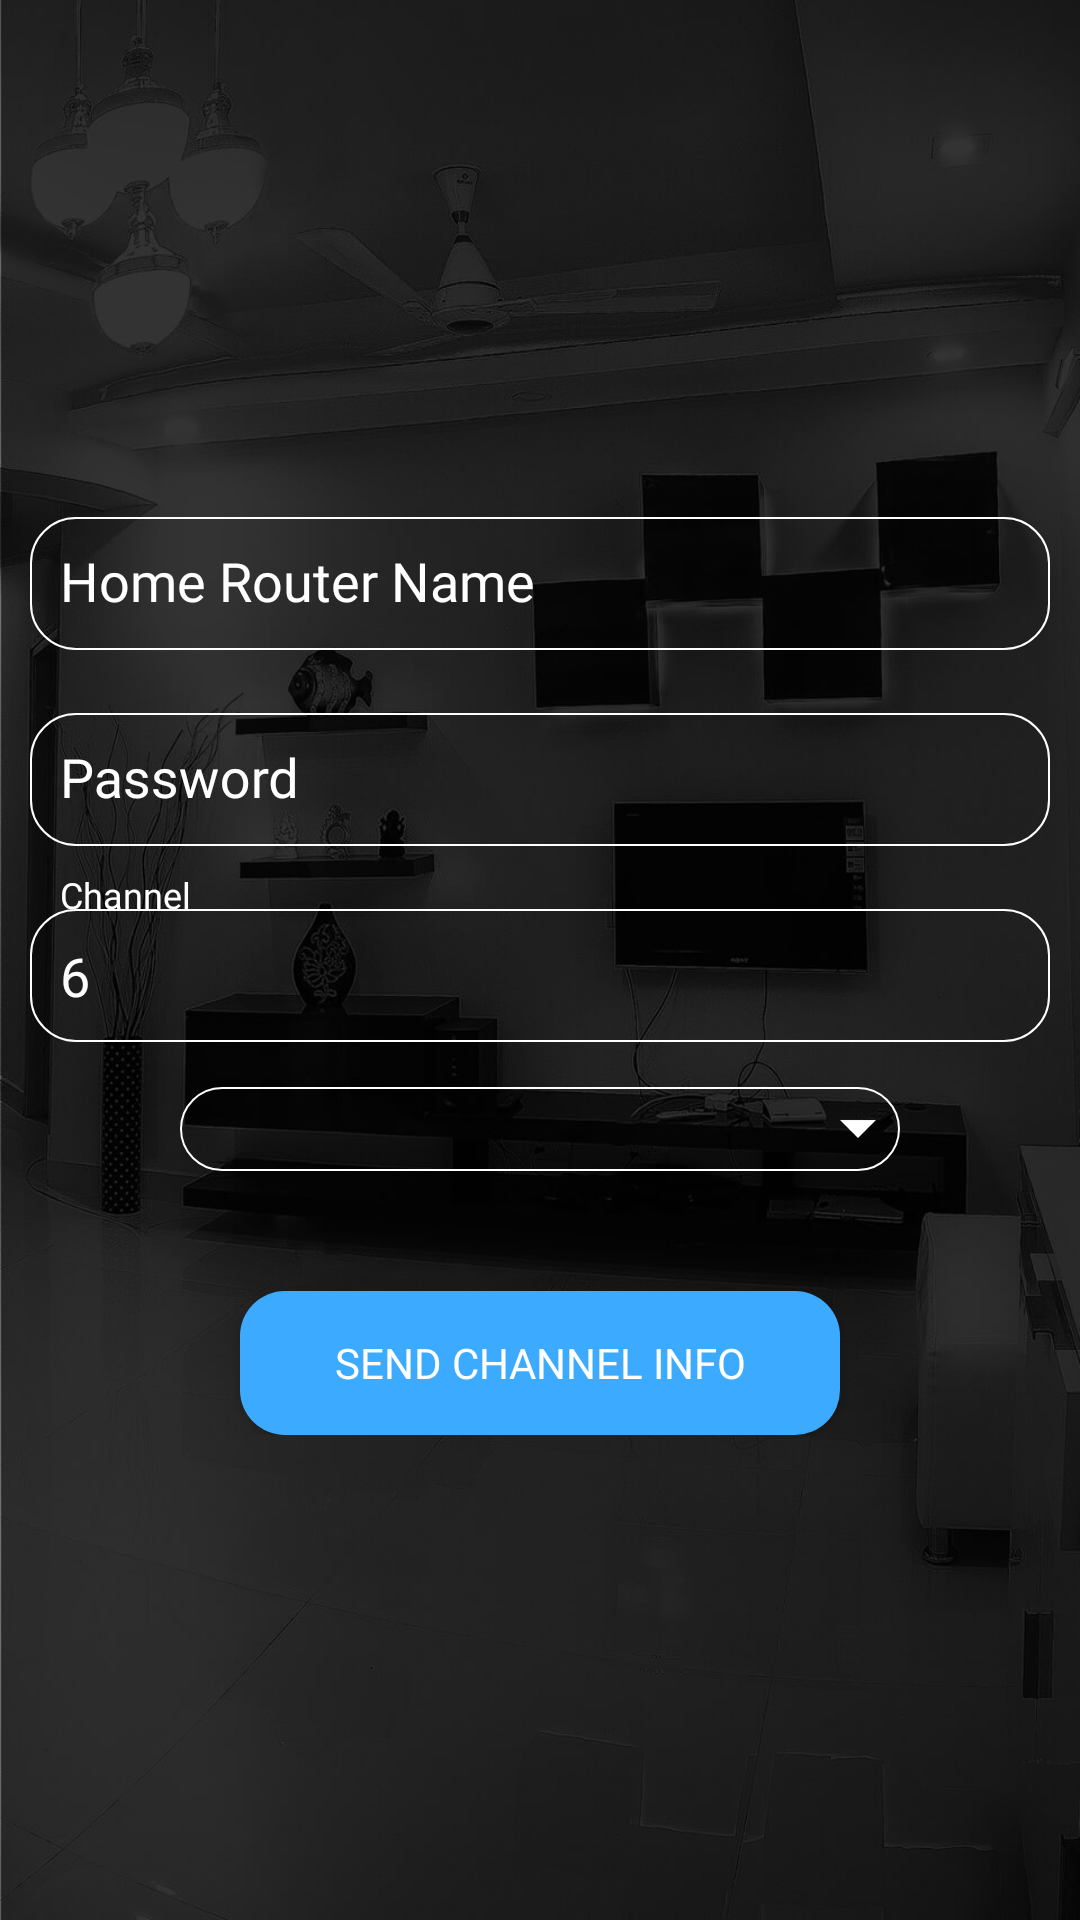

Icons on this 1080×1920 Android screen, each with the point to tap as point (x, y):
drop down arrow: point (858, 1129)
